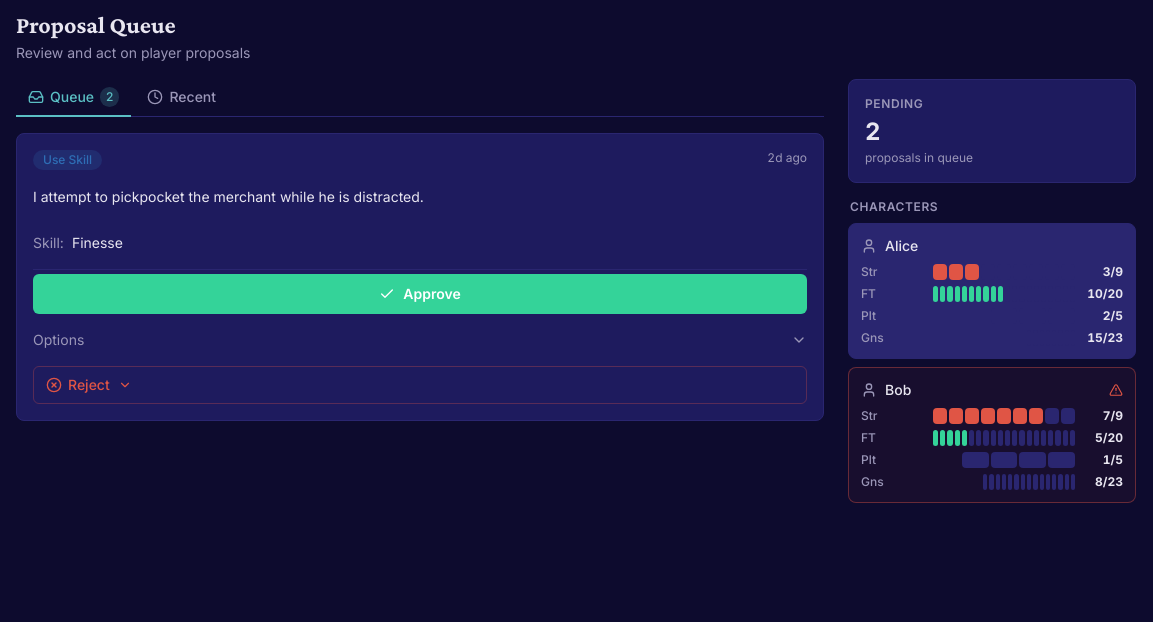
gm-queue: reject › clicking Reject expands the rejection form
Click the button with aria-label "Reject proposal" at (89, 384), box [33, 366, 807, 404]
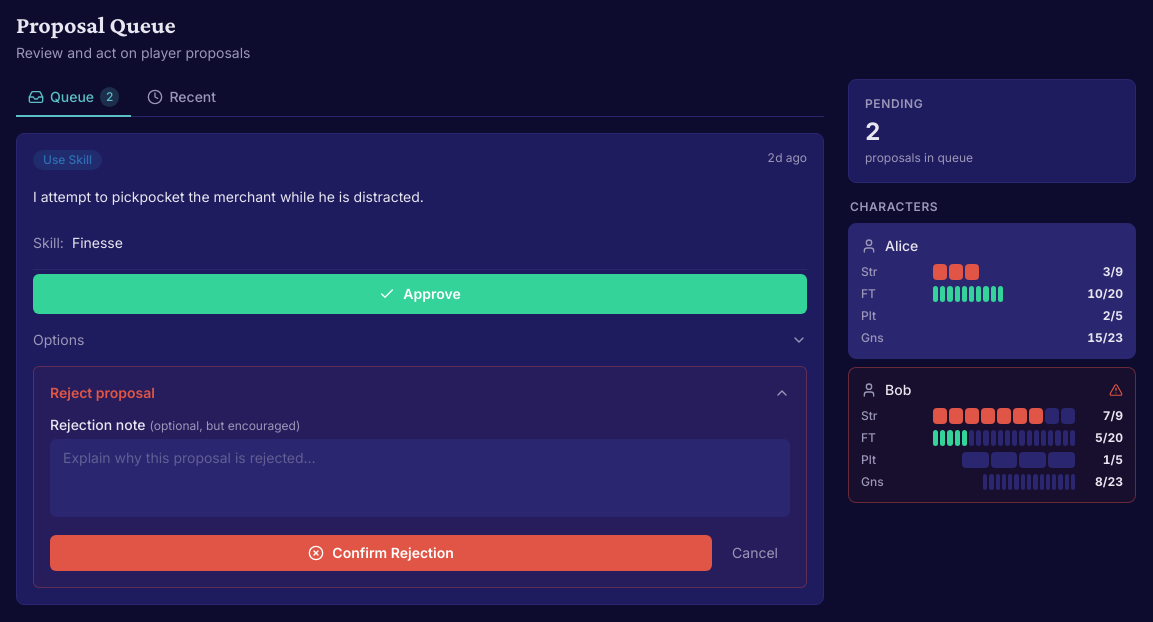
Now the element named "Rejection form" is shown, box [33, 366, 807, 588]
Now the text box labelled "Rejection note(optional, but encouraged)" is shown, box [50, 439, 790, 517]
